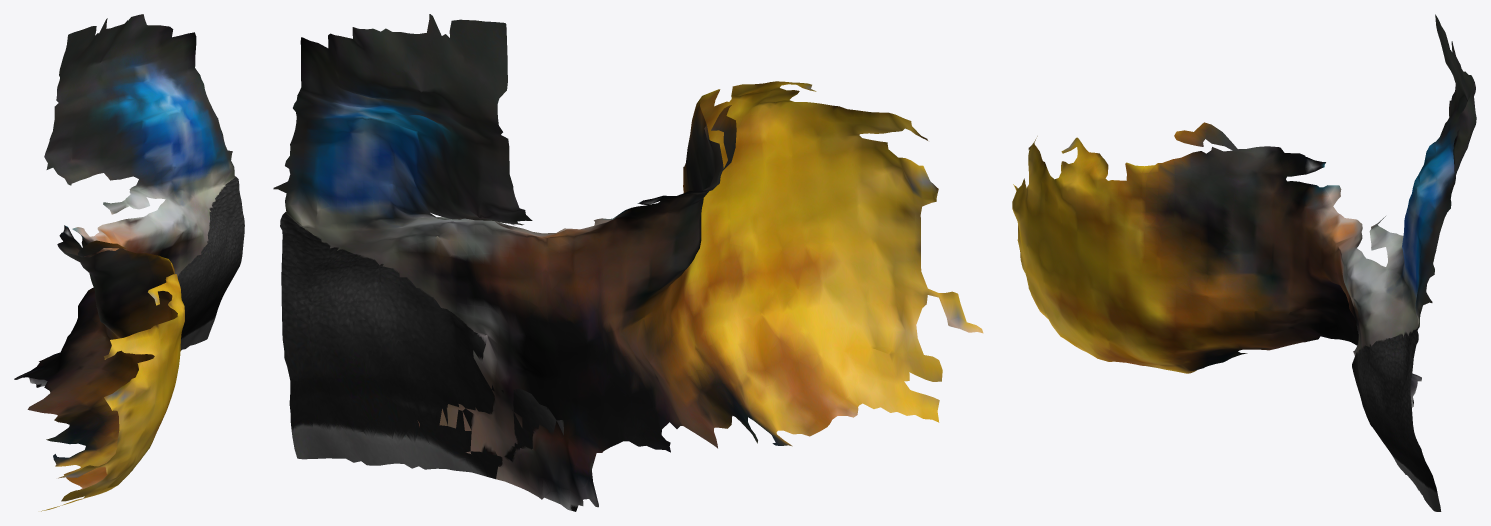
Rendered from scan_20260927_190525_25883.glb.
3 views of the same model, side by side, from view 1: azimuth 30°, elevation 25°; view 2: azimuth 150°, elevation 25°; view 3: azimuth 270°, elevation 25° (orthographic). The views are drawn at different scales.
Visible parts, largest first — view 1: MobileScan3D_Textured; view 2: MobileScan3D_Textured; view 3: MobileScan3D_Textured.
Boxes of the visible parts, box(x1,y1,x2,y2) form: MobileScan3D_Textured: box(14, 14, 244, 511); MobileScan3D_Textured: box(273, 14, 983, 511); MobileScan3D_Textured: box(1012, 14, 1476, 511).
Bounding box in the file's own units: 0.1189 × 0.1127 × 0.1141.
1 material, 1 textured.
